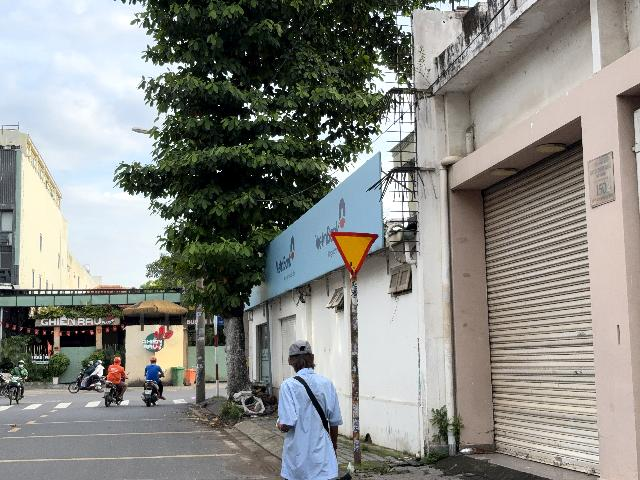giao-nhau-voi-duong-uu-tien: (330, 231, 379, 278)
